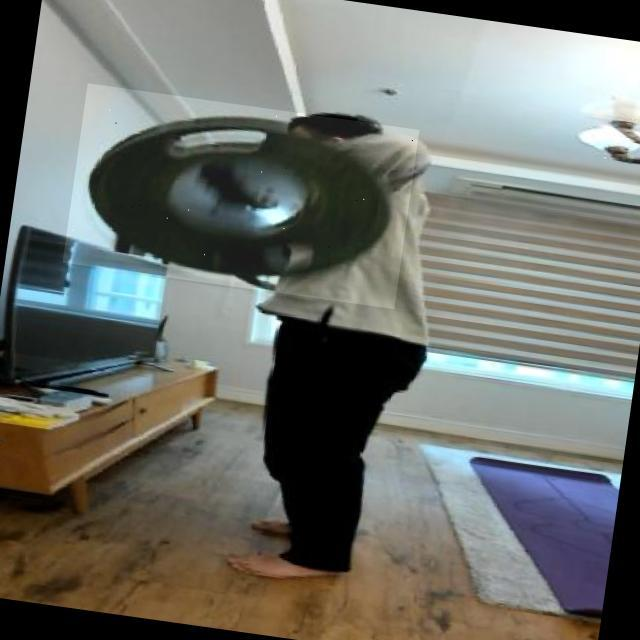barbell: (64, 85, 421, 311)
